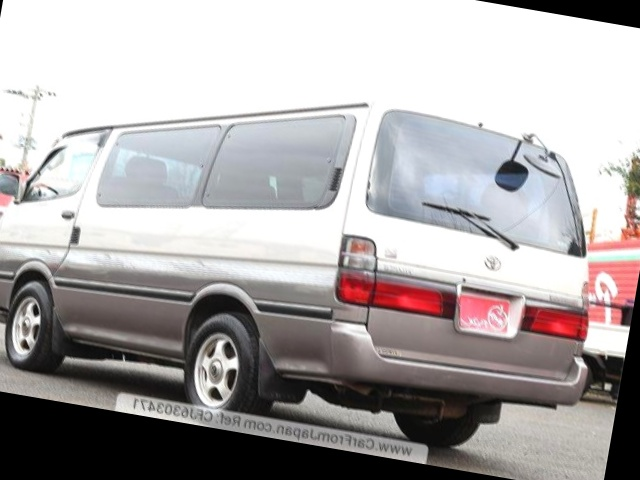van: (0, 29, 622, 465)
